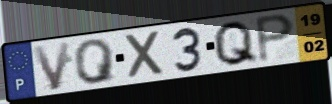3: (171, 25, 203, 75)
P: (253, 12, 297, 65)
Q: (212, 19, 261, 68), (71, 37, 118, 86)
V: (30, 39, 73, 93)
X: (122, 28, 167, 82)
